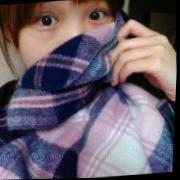WRONG: (17, 1, 118, 108)
